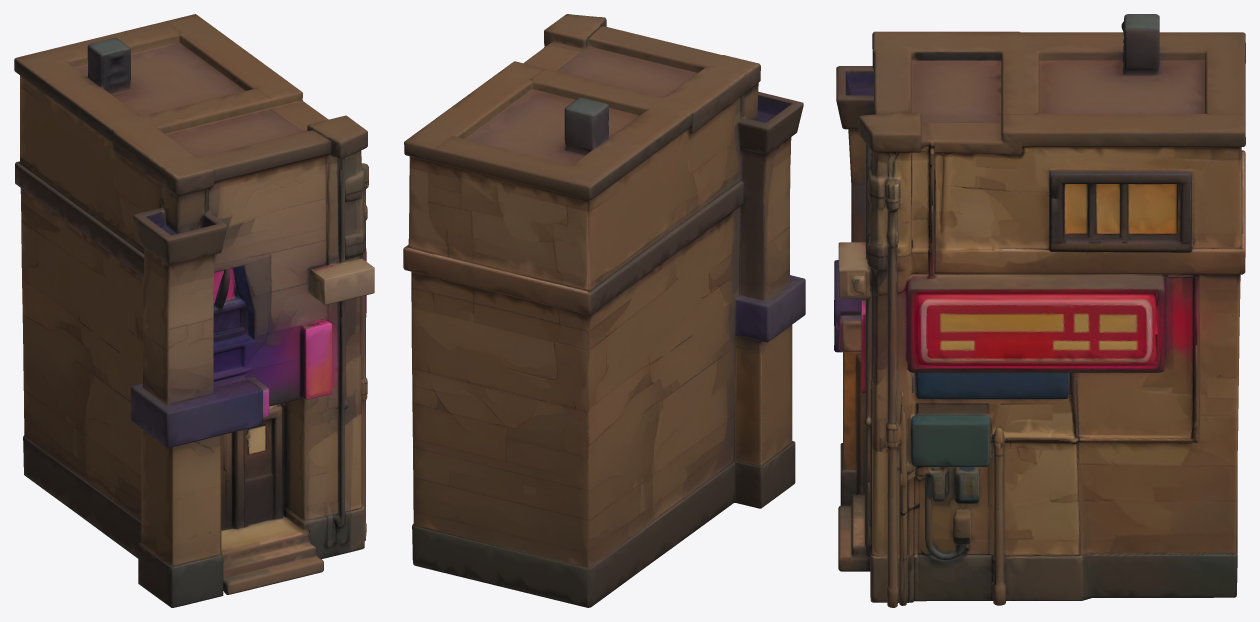
Rendered from grand-ole-opry.glb.
The picture shows the model from 3 angles, left to right: view 1: azimuth 30°, elevation 25°; view 2: azimuth 150°, elevation 25°; view 3: azimuth 270°, elevation 25°; orthographic projection. The views are drawn at different scales.
Parts seen in each view (by area): view 1: tripo_node_b190a59e-498e-4401-82dc-e823d2ccdbc7; view 2: tripo_node_b190a59e-498e-4401-82dc-e823d2ccdbc7; view 3: tripo_node_b190a59e-498e-4401-82dc-e823d2ccdbc7.
Part boxes in pixels (x1,y1,x2,y2): tripo_node_b190a59e-498e-4401-82dc-e823d2ccdbc7: (14,14,374,607); tripo_node_b190a59e-498e-4401-82dc-e823d2ccdbc7: (403,14,805,607); tripo_node_b190a59e-498e-4401-82dc-e823d2ccdbc7: (834,14,1245,607).
Bounding box in the file's own units: 0.546 × 0.9999 × 0.7358.
Materials: 1 (1 with a texture image).
